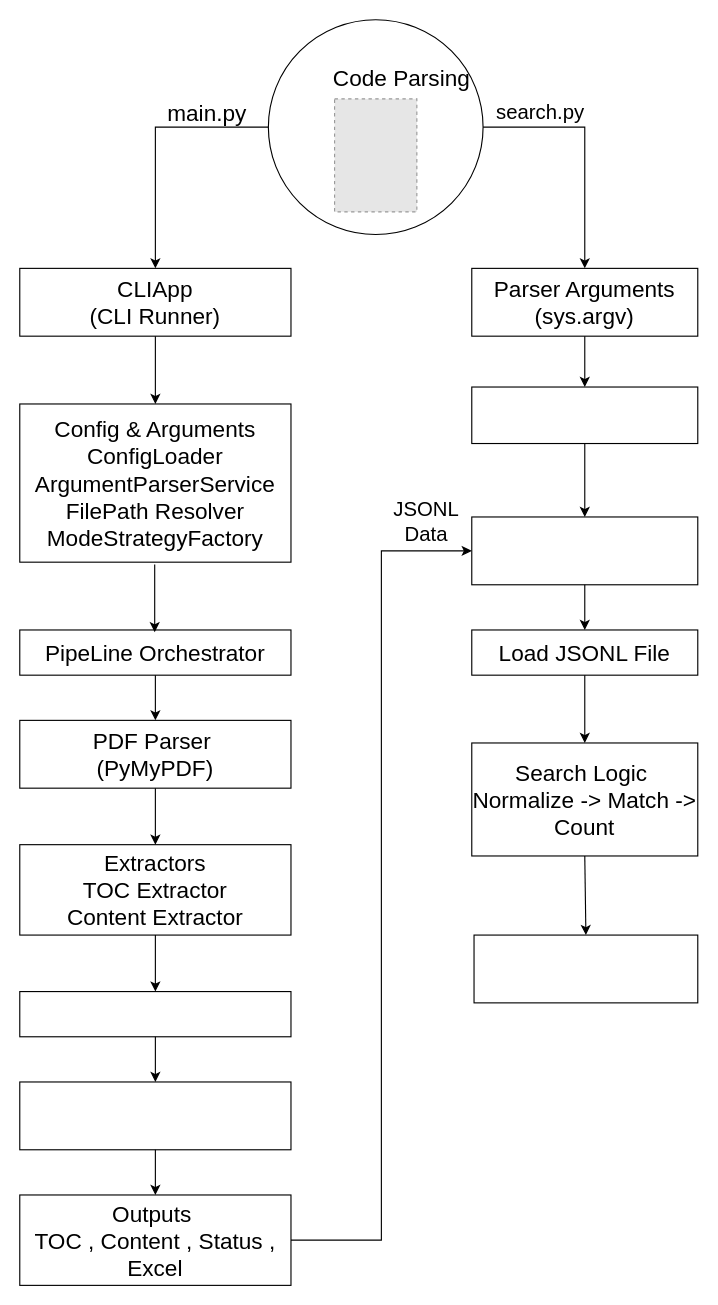
This 718x1305 diagram has some shape labels left out. Grey dashed boxes stand in for pictures. The shapes that lost their labels are listed below. From the top down, each one's centre as x and y in pixels, then its label:
point (584, 415): Resolve File path (arg/env)
point (584, 550): JSONL Search
point (585, 968): Result Output Found "X" times
point (155, 1013): Validator
point (155, 1115): Writers and Reporter JSONL / Excel / JSON
